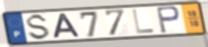7: (105, 8, 127, 38), (78, 11, 101, 38)
A: (52, 12, 82, 39)
L: (131, 9, 157, 35)
P: (155, 5, 182, 34)
S: (26, 13, 52, 42)
